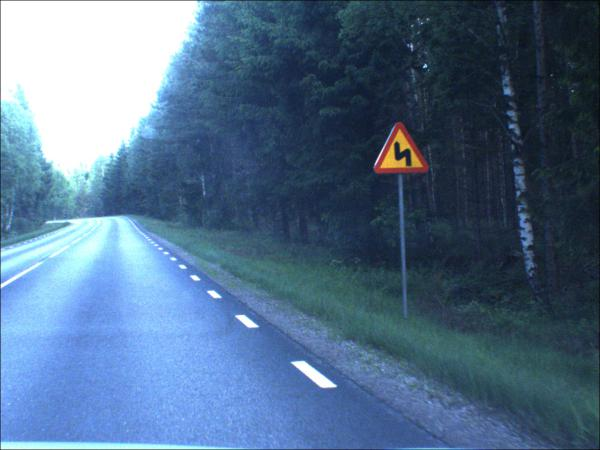WARNING: (371, 122, 433, 174)
